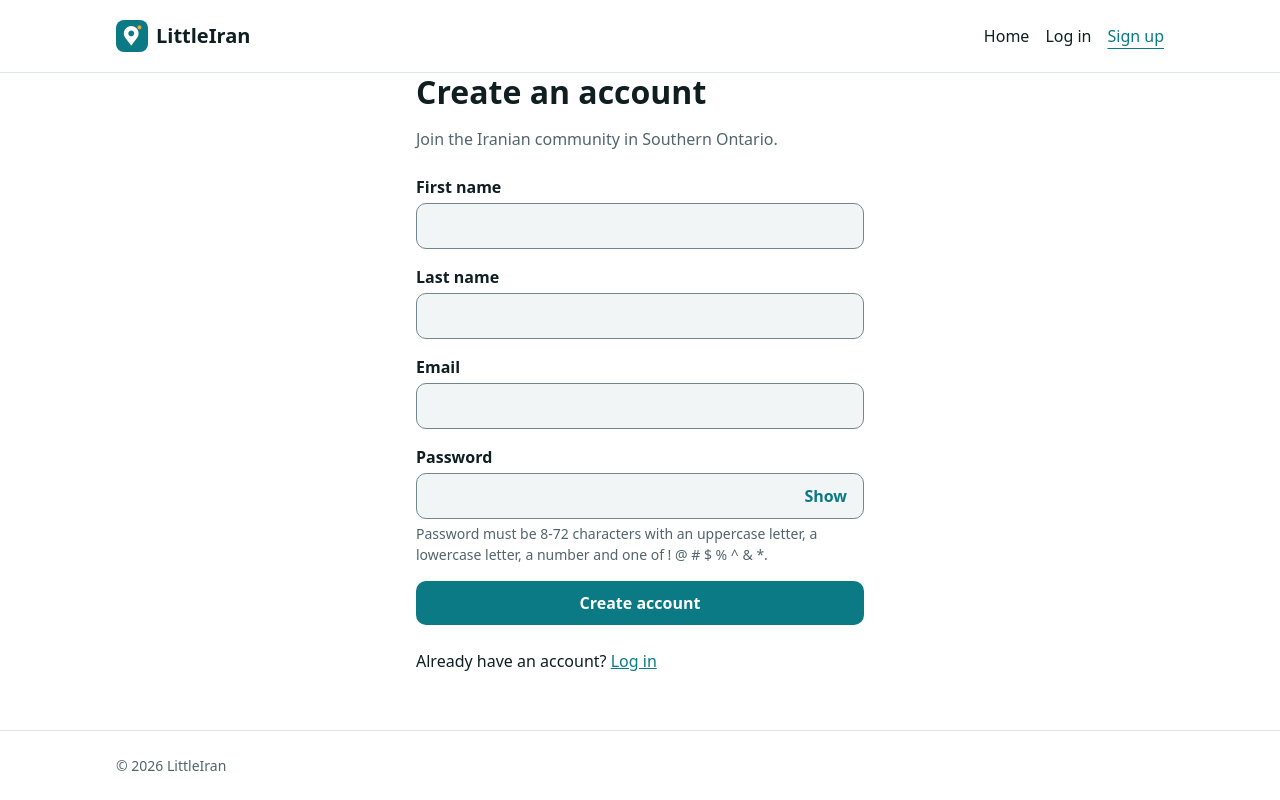
Test case: Register page › sends the person to log in if the automatic login fails after sign-up
Check: the heading "Create an account" is shown, box [416,70,706,113]
Type "Sara" into the field labelled "First name".
click(640, 226); type("Sara")  # box [417,204,863,248]
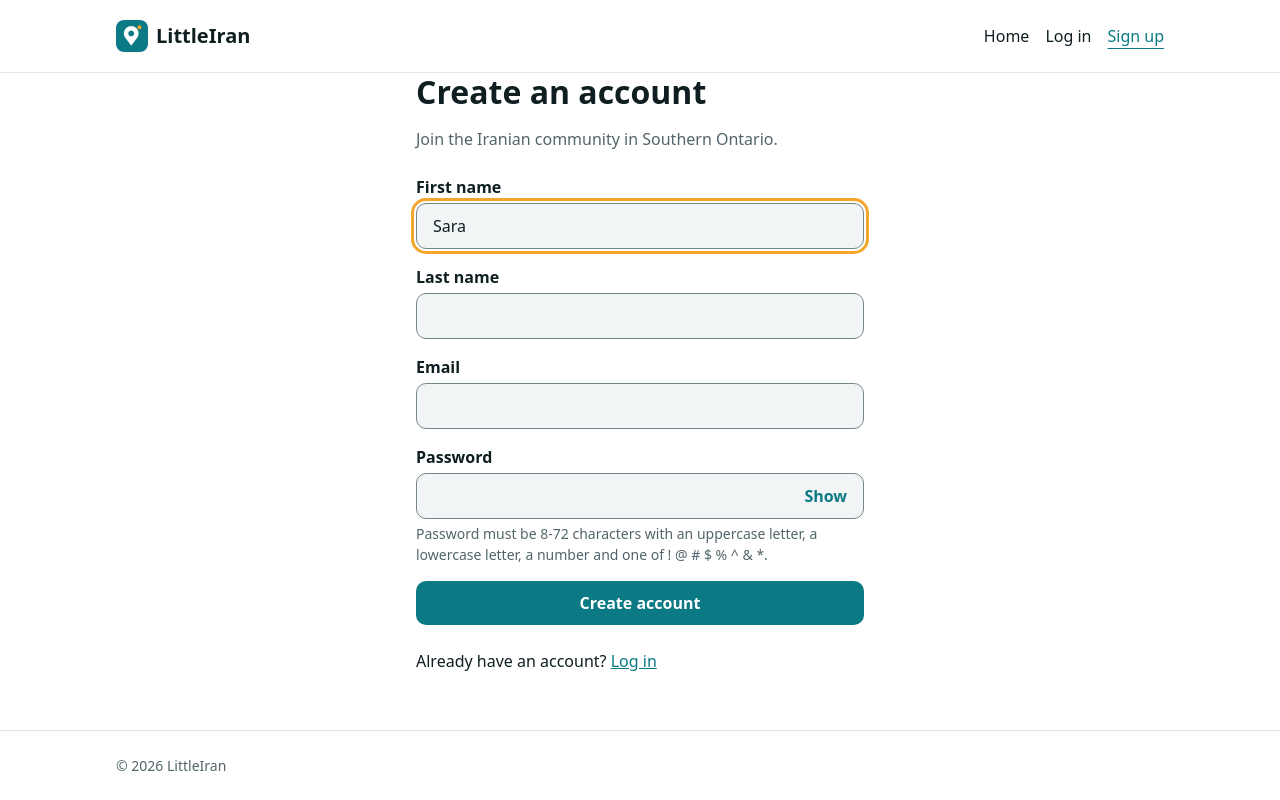
Type "Ahmadi" into the field labelled "Last name".
click(640, 316); type("Ahmadi")  # box [417,294,863,338]
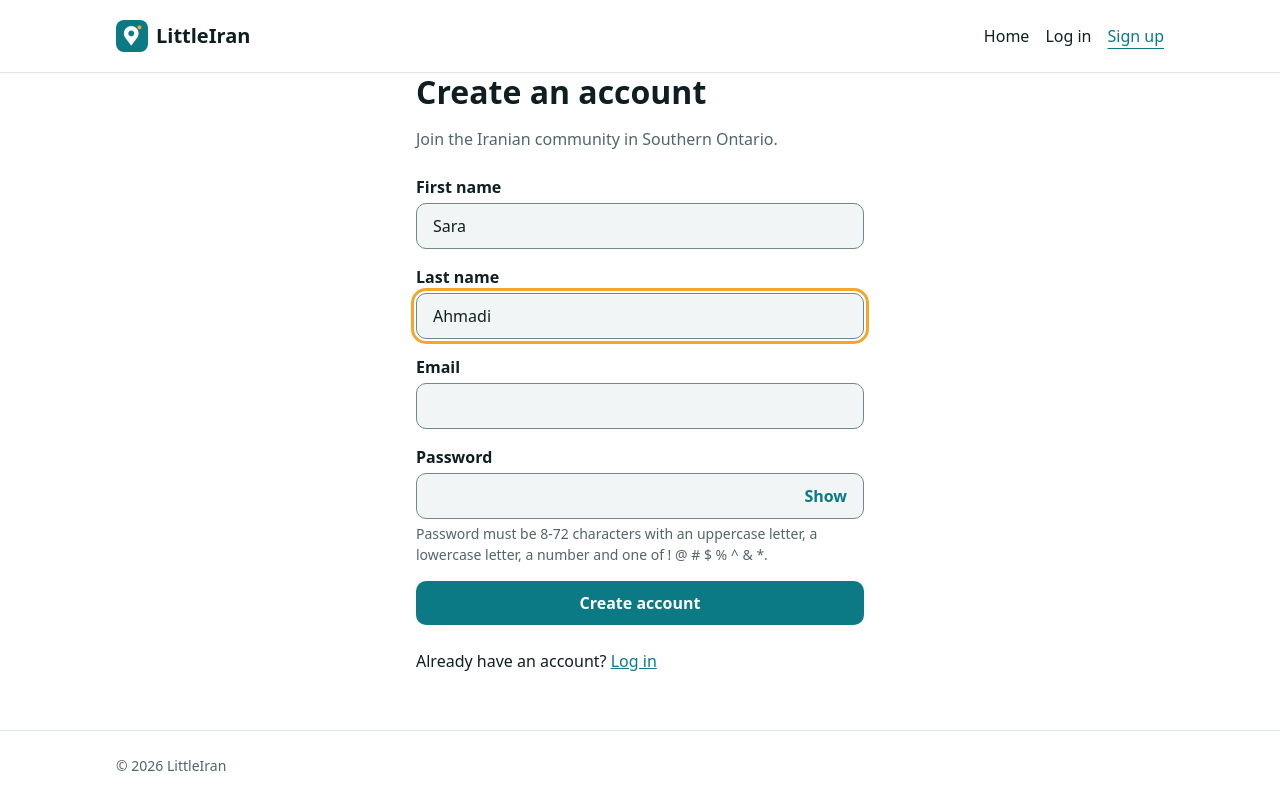
Type "sara@example.com" into the field labelled "Email".
click(640, 406); type("sara@example.com")  # box [417,384,863,428]
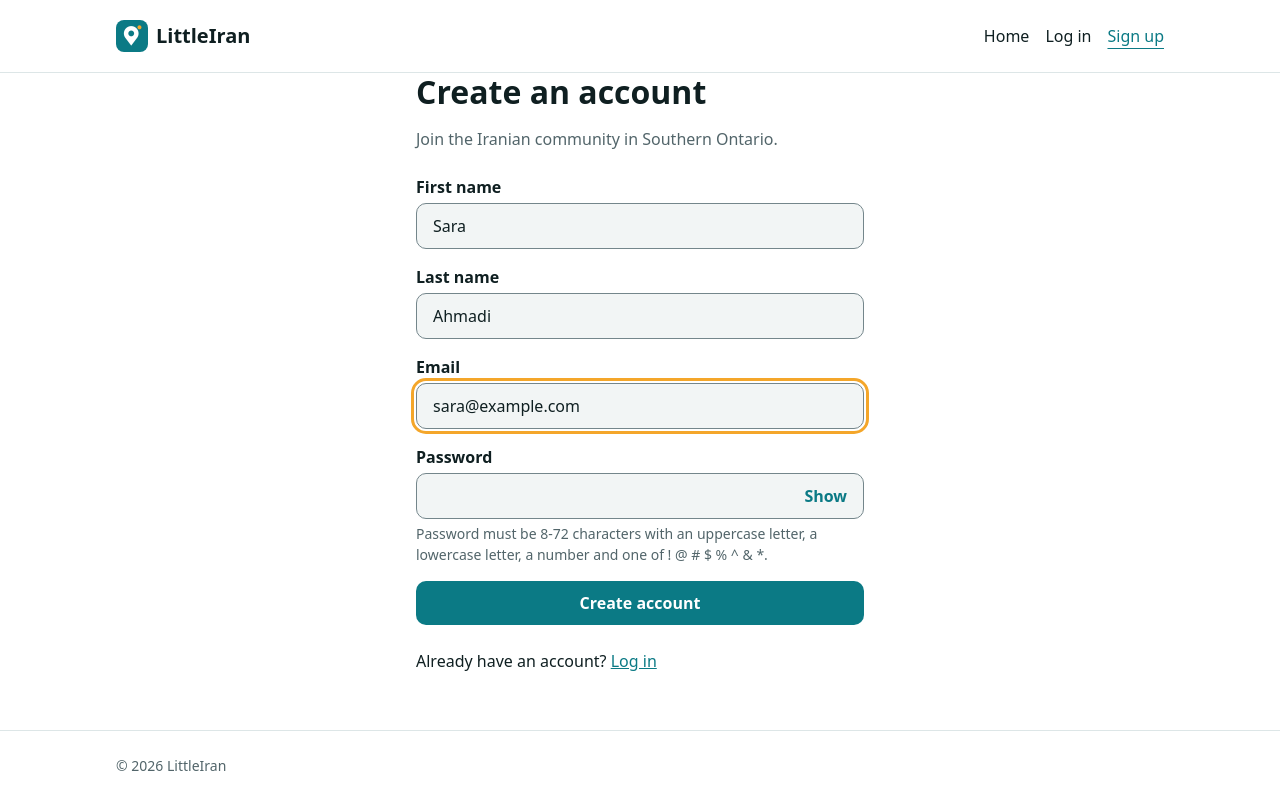
Type "Strong1!" into the password field labelled "Password".
click(603, 496); type("Strong1!")  # box [417,474,788,518]
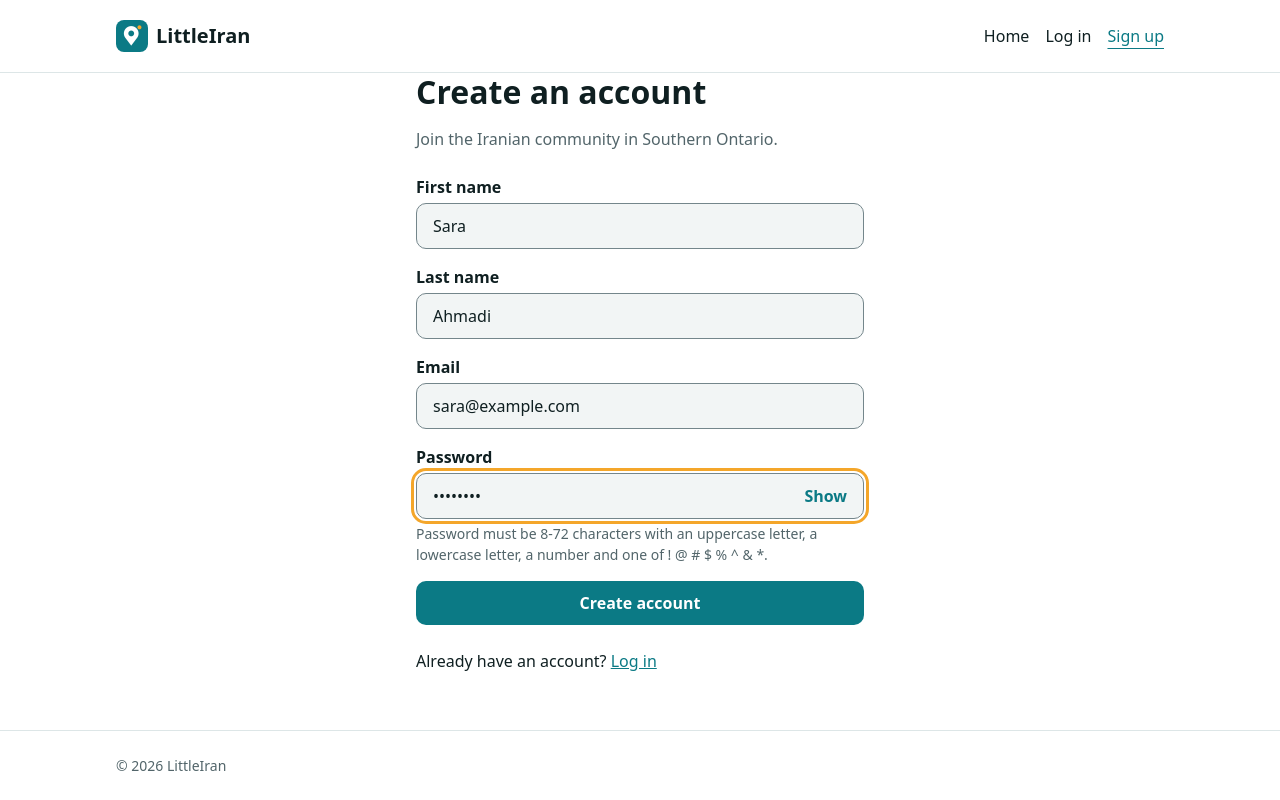
Click the button "Create account".
click(640, 603)  # box [416,581,864,625]
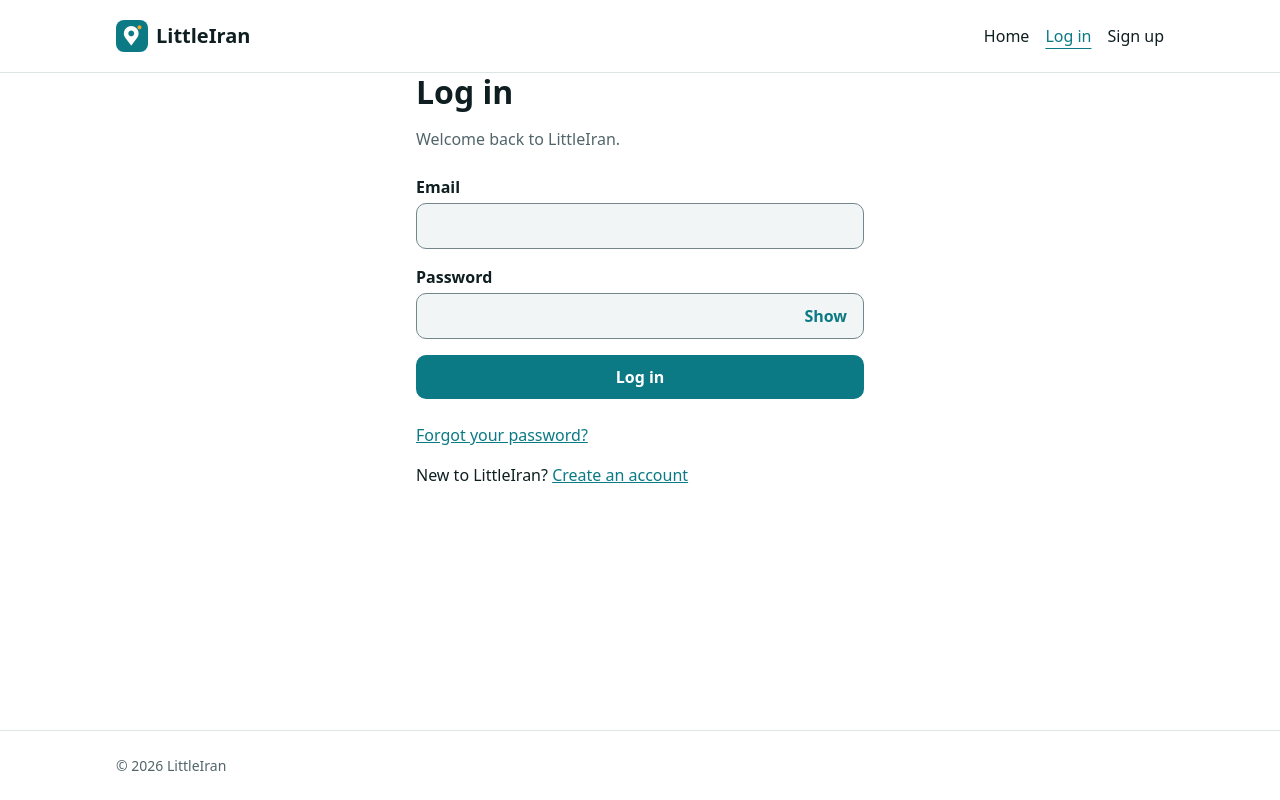
Check: the heading "Log in" is shown, box [416,70,513,113]
